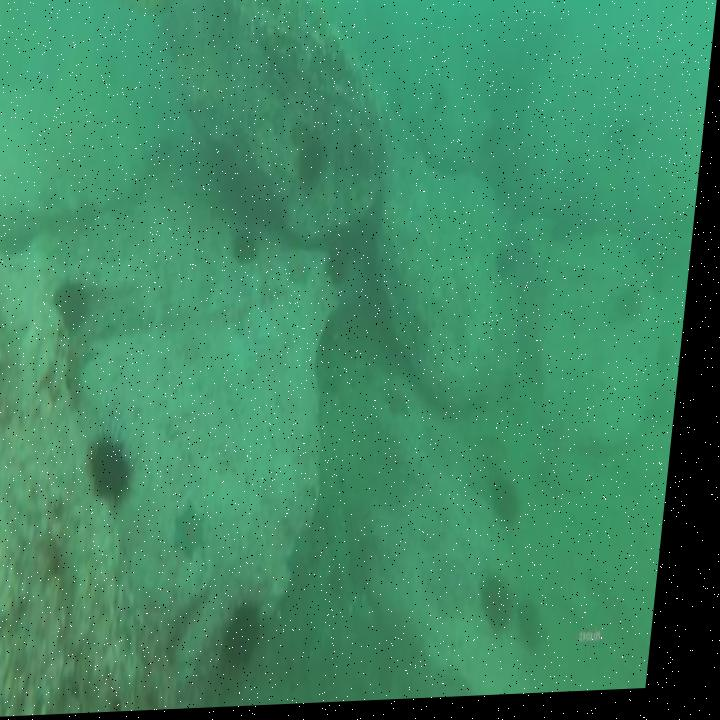echinus: (98, 440, 140, 502), (490, 581, 528, 633), (243, 604, 276, 658), (300, 141, 330, 186), (63, 285, 95, 327), (621, 289, 651, 329), (329, 248, 358, 288), (502, 485, 531, 525), (533, 605, 559, 645), (552, 215, 580, 252), (500, 247, 523, 289), (238, 234, 262, 263)
starfish: (184, 512, 217, 559), (291, 259, 319, 289), (394, 384, 418, 419)
